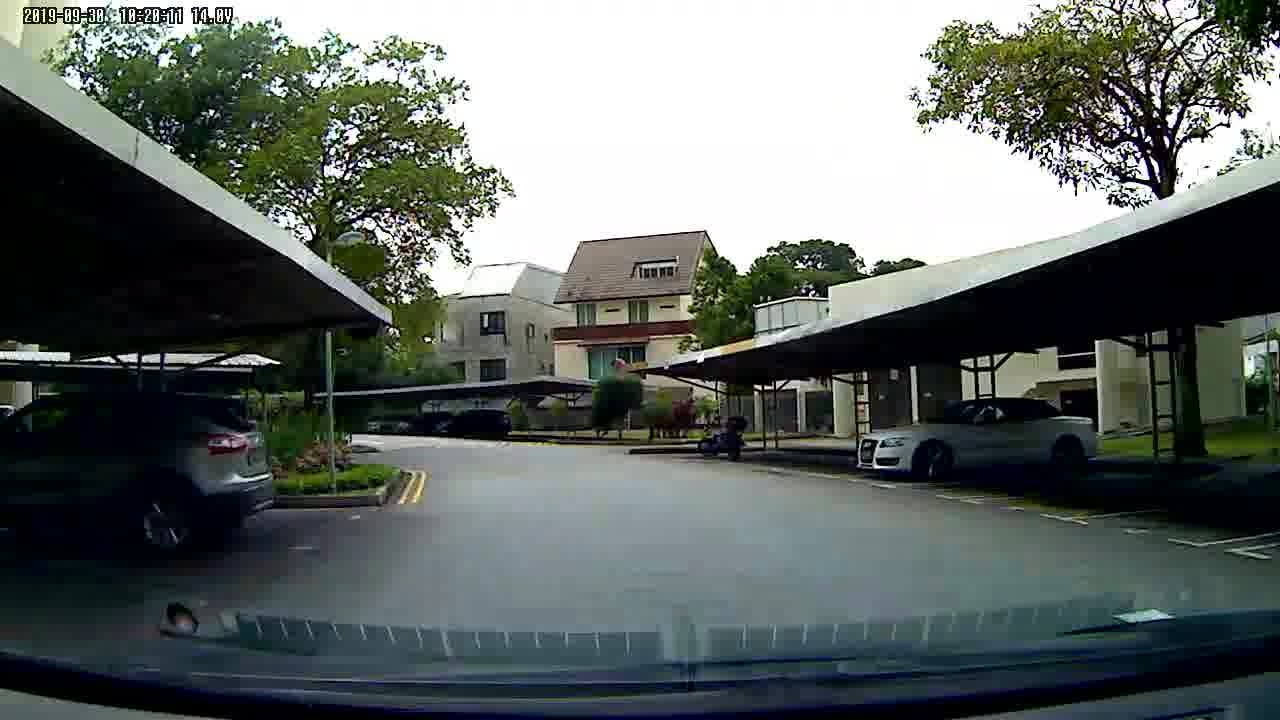car: (127, 382, 295, 568), (851, 394, 1108, 481)
